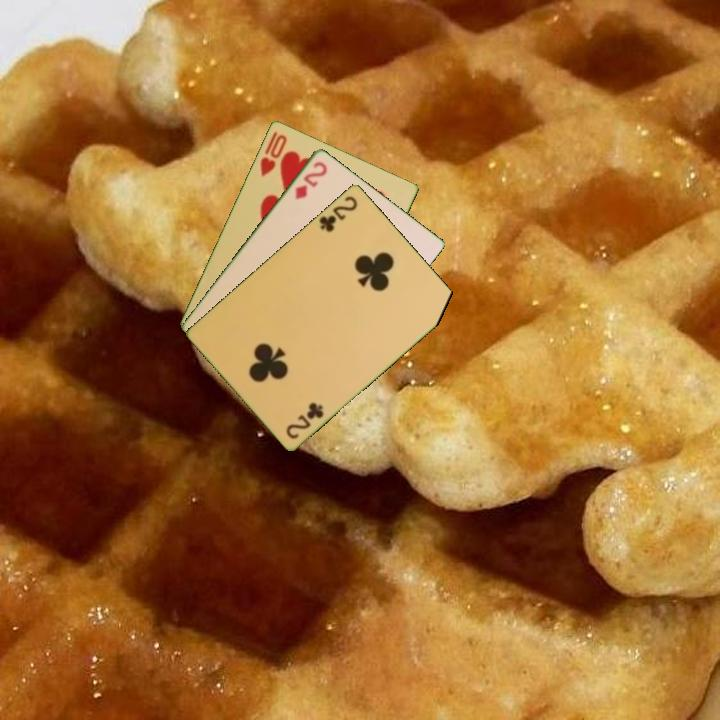10h: (256, 127, 290, 179)
2c: (315, 192, 360, 235), (282, 399, 326, 442)
2d: (292, 157, 330, 203)
